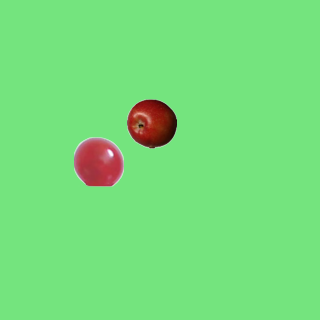Apple Braeburn: (126, 98, 176, 148)
Redcurrant: (73, 136, 123, 186)
